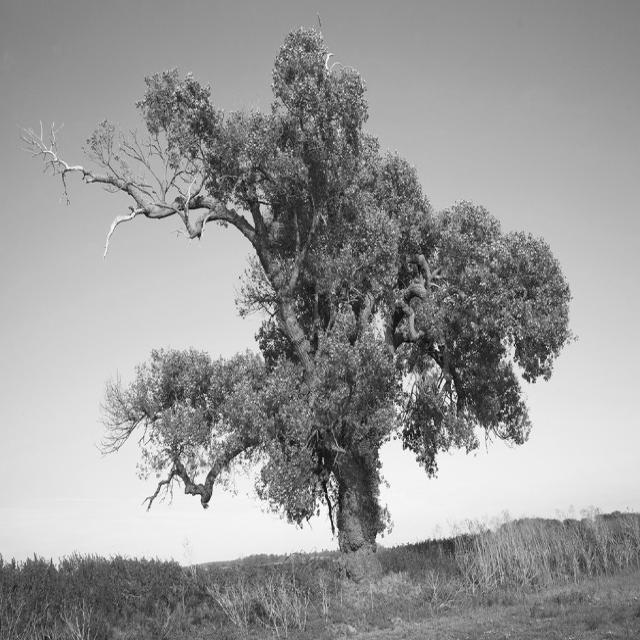Populus nigra: (21, 19, 576, 553)
